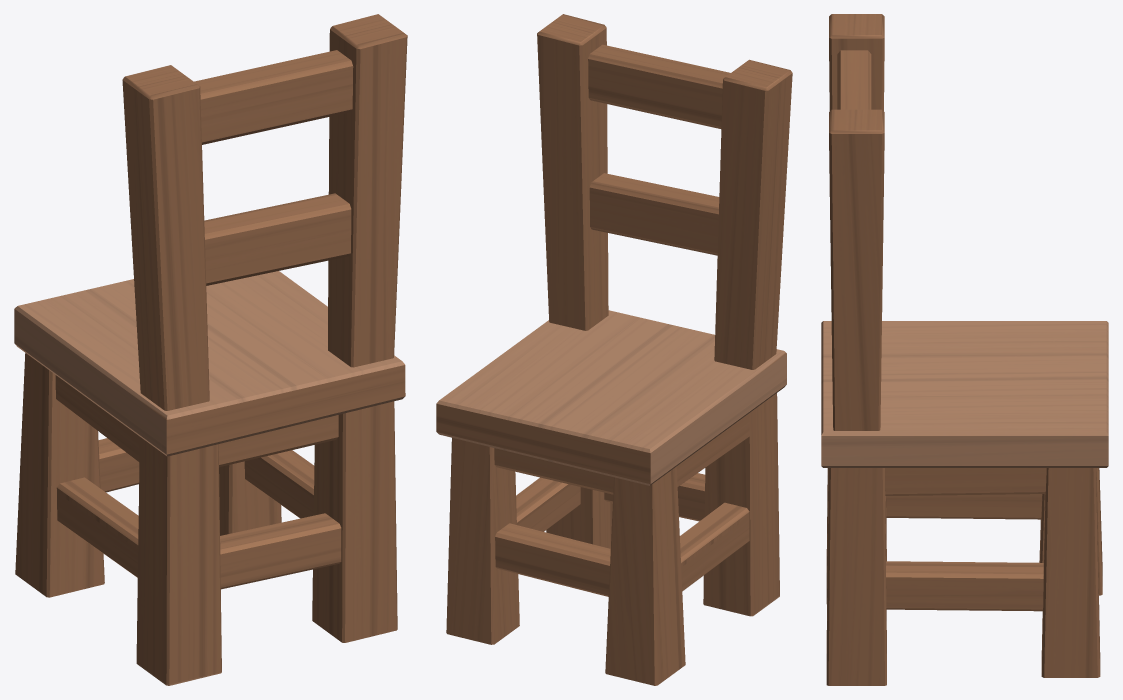
Rendered from Desk_Chair.fbx.
The picture shows the model from 3 angles, left to right: view 1: azimuth 30°, elevation 25°; view 2: azimuth 150°, elevation 25°; view 3: azimuth 270°, elevation 25°; orthographic projection. The views are drawn at different scales.
Parts seen in each view (by area): view 1: Chair; view 2: Chair; view 3: Chair.
Part boxes in pixels (x1,y1,x2,y2): Chair: (14, 14, 407, 685); Chair: (436, 14, 792, 685); Chair: (821, 14, 1108, 685).
Bounding box in the file's own units: 48.32 × 106 × 49.25.
Materials: 1 (1 with a texture image).
